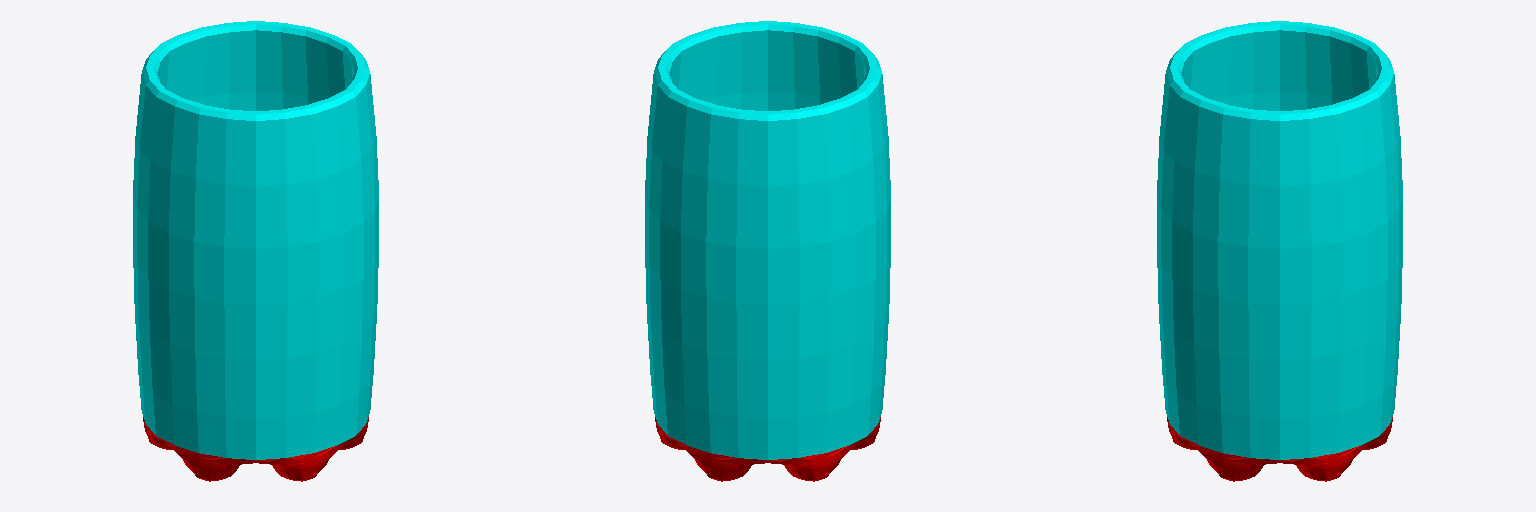
Rendered from occluder.obj.
The picture shows the model from 3 angles: view 1: azimuth 30°, elevation 25°; view 2: azimuth 150°, elevation 25°; view 3: azimuth 270°, elevation 25°; orthographic projection.
Visible parts, largest first — view 1: cup_1_Mesh; view 2: cup_1_Mesh; view 3: cup_1_Mesh.
Part boxes in pixels (left/top/right/bottom): cup_1_Mesh: left=133, top=21, right=378, bottom=481; cup_1_Mesh: left=645, top=21, right=890, bottom=481; cup_1_Mesh: left=1157, top=21, right=1402, bottom=481.
Bounding box in the file's own units: 0.085 × 0.1419 × 0.0842.